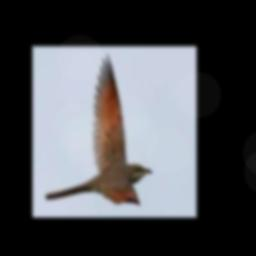Cuckoo: (46, 53, 152, 204)
